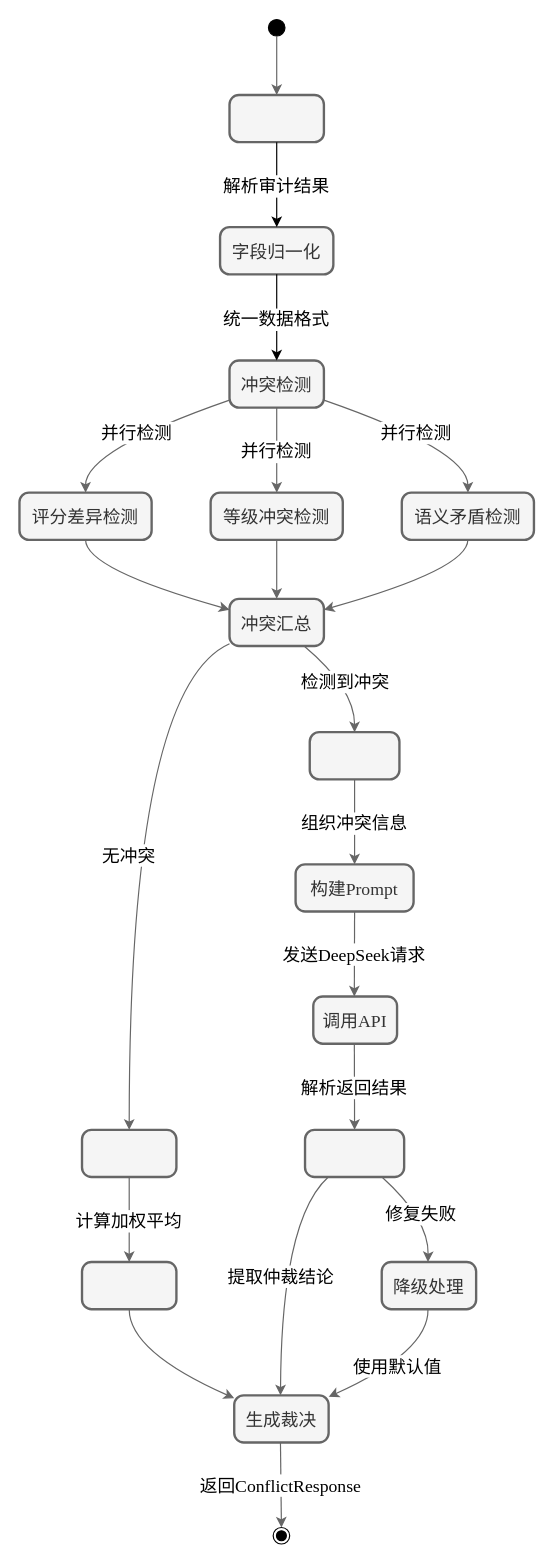
This 553x1563 diagram has some shape labels left out. The shapes that lost their labels are listed below. From the top down, each one's centre as x and y in pixels, then its label:
At [276,118]: "接收请求".
At [354,755]: "LLM仲裁".
At [128,1153]: "快速路径".
At [354,1153]: "JSON修复".
At [128,1285]: "加权投票".
